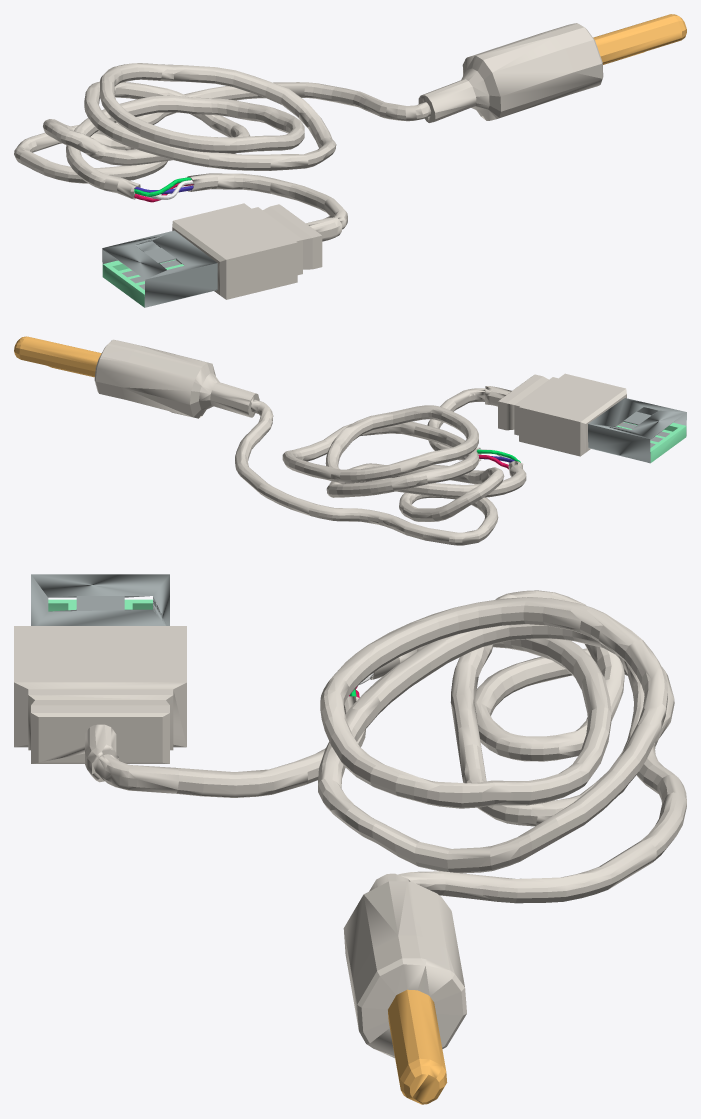
File: dev-usb-a-cable_lod2.glb
3 renders of one model, top to bottom at view 1: azimuth 30°, elevation 25°; view 2: azimuth 150°, elevation 25°; view 3: azimuth 270°, elevation 25°, orthographic. The views are drawn at different scales.
Parts seen in each view (by area): view 1: body; view 2: body; view 3: body.
Boxes of the visible parts, x1,y1,x2,y2 form: body: [14, 14, 686, 307]; body: [14, 336, 686, 545]; body: [14, 574, 686, 1104].
Size of the model in its own units: 0.2999 by 0.0346 by 0.1638.
